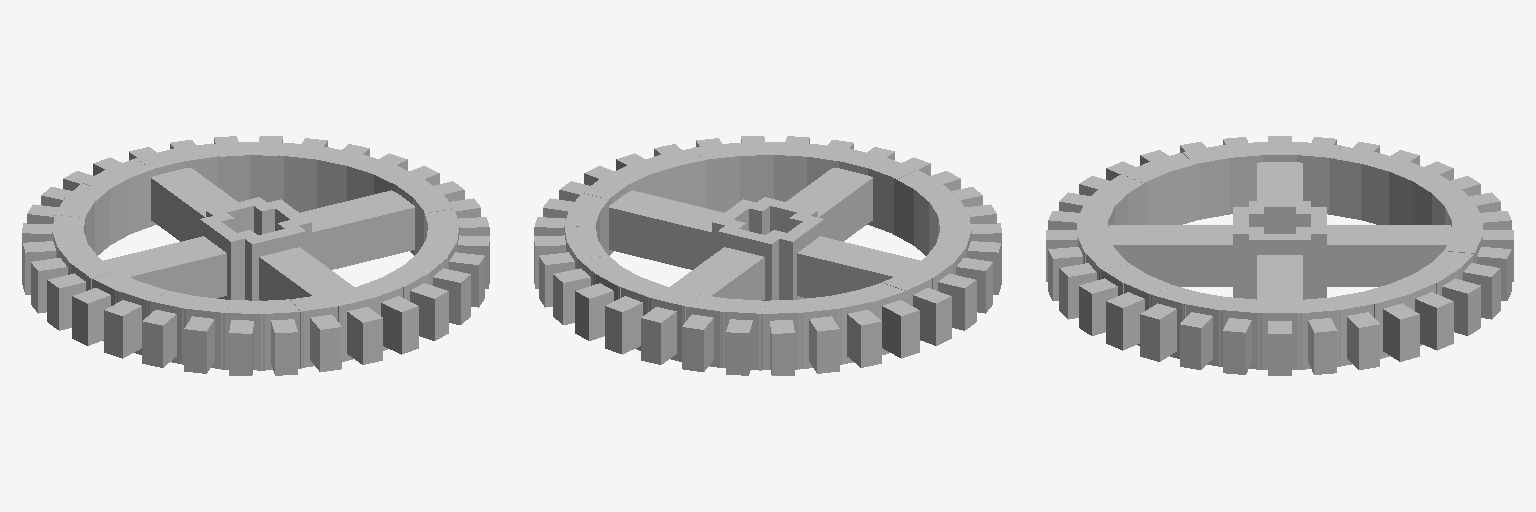
Rendered from big_gear.obj.
The picture shows the model from 3 angles: view 1: azimuth 30°, elevation 25°; view 2: azimuth 150°, elevation 25°; view 3: azimuth 270°, elevation 25°; orthographic projection.
Visible parts, largest first — view 1: connect4, connect2, connect1, connect3, cube66, cube71, cube23, cube38, cube20, cube45, cube40, cube25 (+28 smaller); view 2: connect4, connect2, connect3, connect1, cube48, cube52, cube6, cube47, cube2, cube20, cube8, cube4 (+28 smaller); view 3: connect1, connect3, cube29, cube13, connect4, cube56, cube34, cube17, cube36, cube46, cube61, cube39 (+28 smaller).
Part boxes in pixels (bbox=[...]): connect4: bbox=[300, 190, 414, 269]; connect2: bbox=[104, 236, 226, 297]; connect1: bbox=[151, 168, 237, 241]; connect3: bbox=[259, 247, 353, 300]; cube66: bbox=[279, 143, 329, 212]; cube71: bbox=[246, 142, 286, 202]; cube23: bbox=[104, 300, 141, 358]; cube38: bbox=[245, 226, 305, 300]; cube20: bbox=[200, 216, 244, 299]; cube45: bbox=[381, 296, 418, 354]; cube40: bbox=[347, 307, 382, 364]; cube25: bbox=[142, 310, 176, 367]; connect4: bbox=[609, 190, 723, 269]; connect2: bbox=[797, 236, 919, 297]; connect3: bbox=[786, 168, 872, 241]; connect1: bbox=[670, 247, 764, 300]; cube48: bbox=[694, 143, 743, 212]; cube52: bbox=[733, 142, 773, 202]; cube6: bbox=[882, 300, 919, 358]; cube47: bbox=[769, 142, 815, 201]; cube2: bbox=[718, 226, 778, 300]; cube20: bbox=[779, 216, 823, 299]; cube8: bbox=[605, 296, 642, 354]; cube4: bbox=[641, 307, 676, 364]; connect1: bbox=[1327, 225, 1451, 286]; connect3: bbox=[1108, 225, 1232, 286]; cube29: bbox=[1182, 145, 1233, 219]; cube13: bbox=[1328, 146, 1377, 219]; connect4: bbox=[1257, 255, 1302, 299]; cube56: bbox=[1249, 234, 1310, 299]; cube34: bbox=[1150, 153, 1198, 224]; cube17: bbox=[1357, 152, 1405, 224]; cube36: bbox=[1292, 142, 1340, 213]; cube46: bbox=[1140, 303, 1176, 361]; cube61: bbox=[1383, 303, 1419, 361]; cube39: bbox=[1106, 292, 1144, 350].
Bounding box in the file's own units: 1.88 × 0.3125 × 1.88.